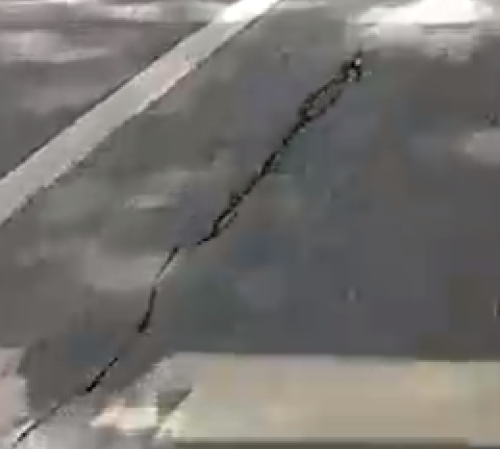Retak Memanjang: (2, 49, 365, 449)
